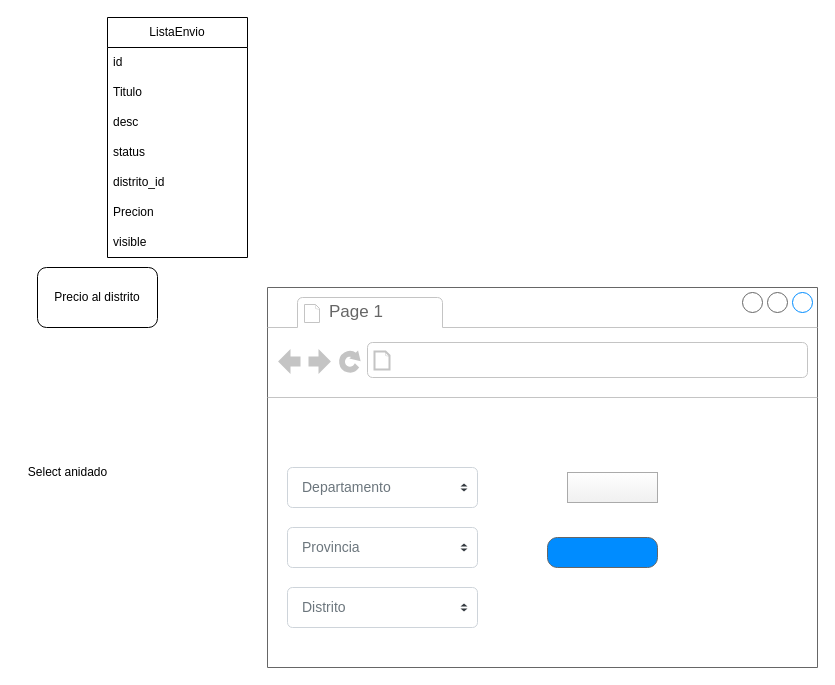
Some shapes in this 835 by 685 pixel diagram are drawn without their labels. The shapes that lost their labels are listed below. From the top down, each one's centre as x and y in pixels, then its label:
the point at 522,360: https://www.draw.io
the point at 612,487: Costo
the point at 602,552: Guardar
